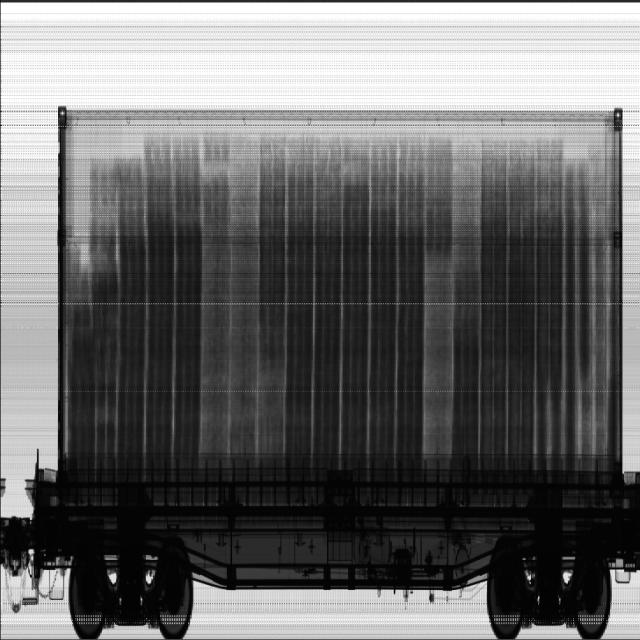clothes: (200, 142, 288, 471), (424, 287, 455, 465)
tableware: (481, 137, 563, 470), (261, 137, 341, 359)
